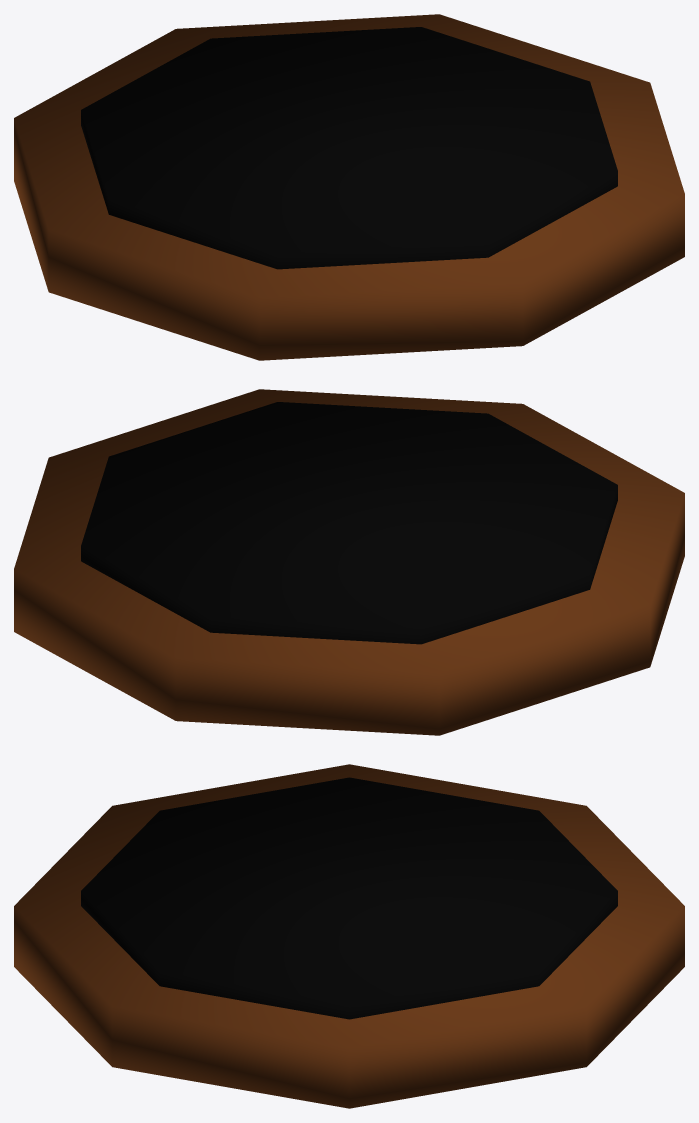
File: SpearHole.gltf
The picture shows the model from 3 angles, top to bottom: view 1: azimuth 30°, elevation 25°; view 2: azimuth 150°, elevation 25°; view 3: azimuth 270°, elevation 25°; orthographic projection. The views are drawn at different scales.
Parts seen in each view (by area): view 1: Cylinder.001, Cylinder; view 2: Cylinder.001, Cylinder; view 3: Cylinder.001, Cylinder.
Boxes of the visible parts, <box> form: Cylinder.001: <box>81,27,617,269</box>; Cylinder: <box>14,14,684,360</box>; Cylinder.001: <box>81,402,617,644</box>; Cylinder: <box>14,389,684,735</box>; Cylinder.001: <box>81,777,617,1019</box>; Cylinder: <box>14,764,684,1108</box>.
Bounding box in the file's own units: 0.4 × 0.05 × 0.4.
